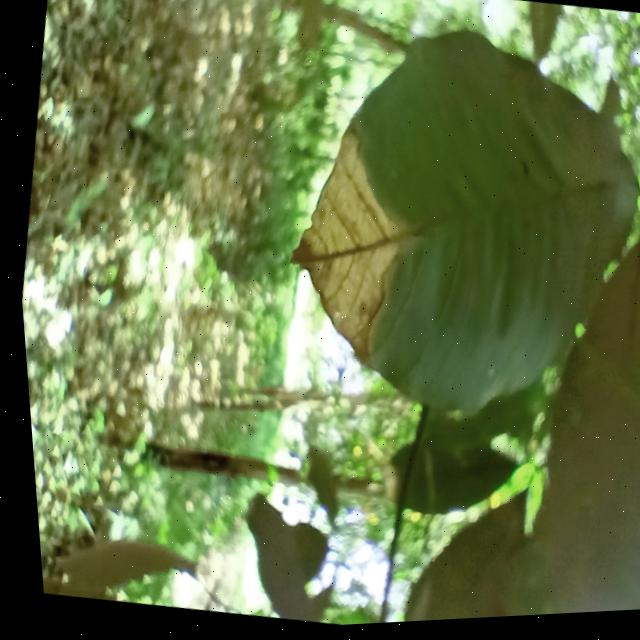Leaf-Blight: (261, 122, 418, 380)
